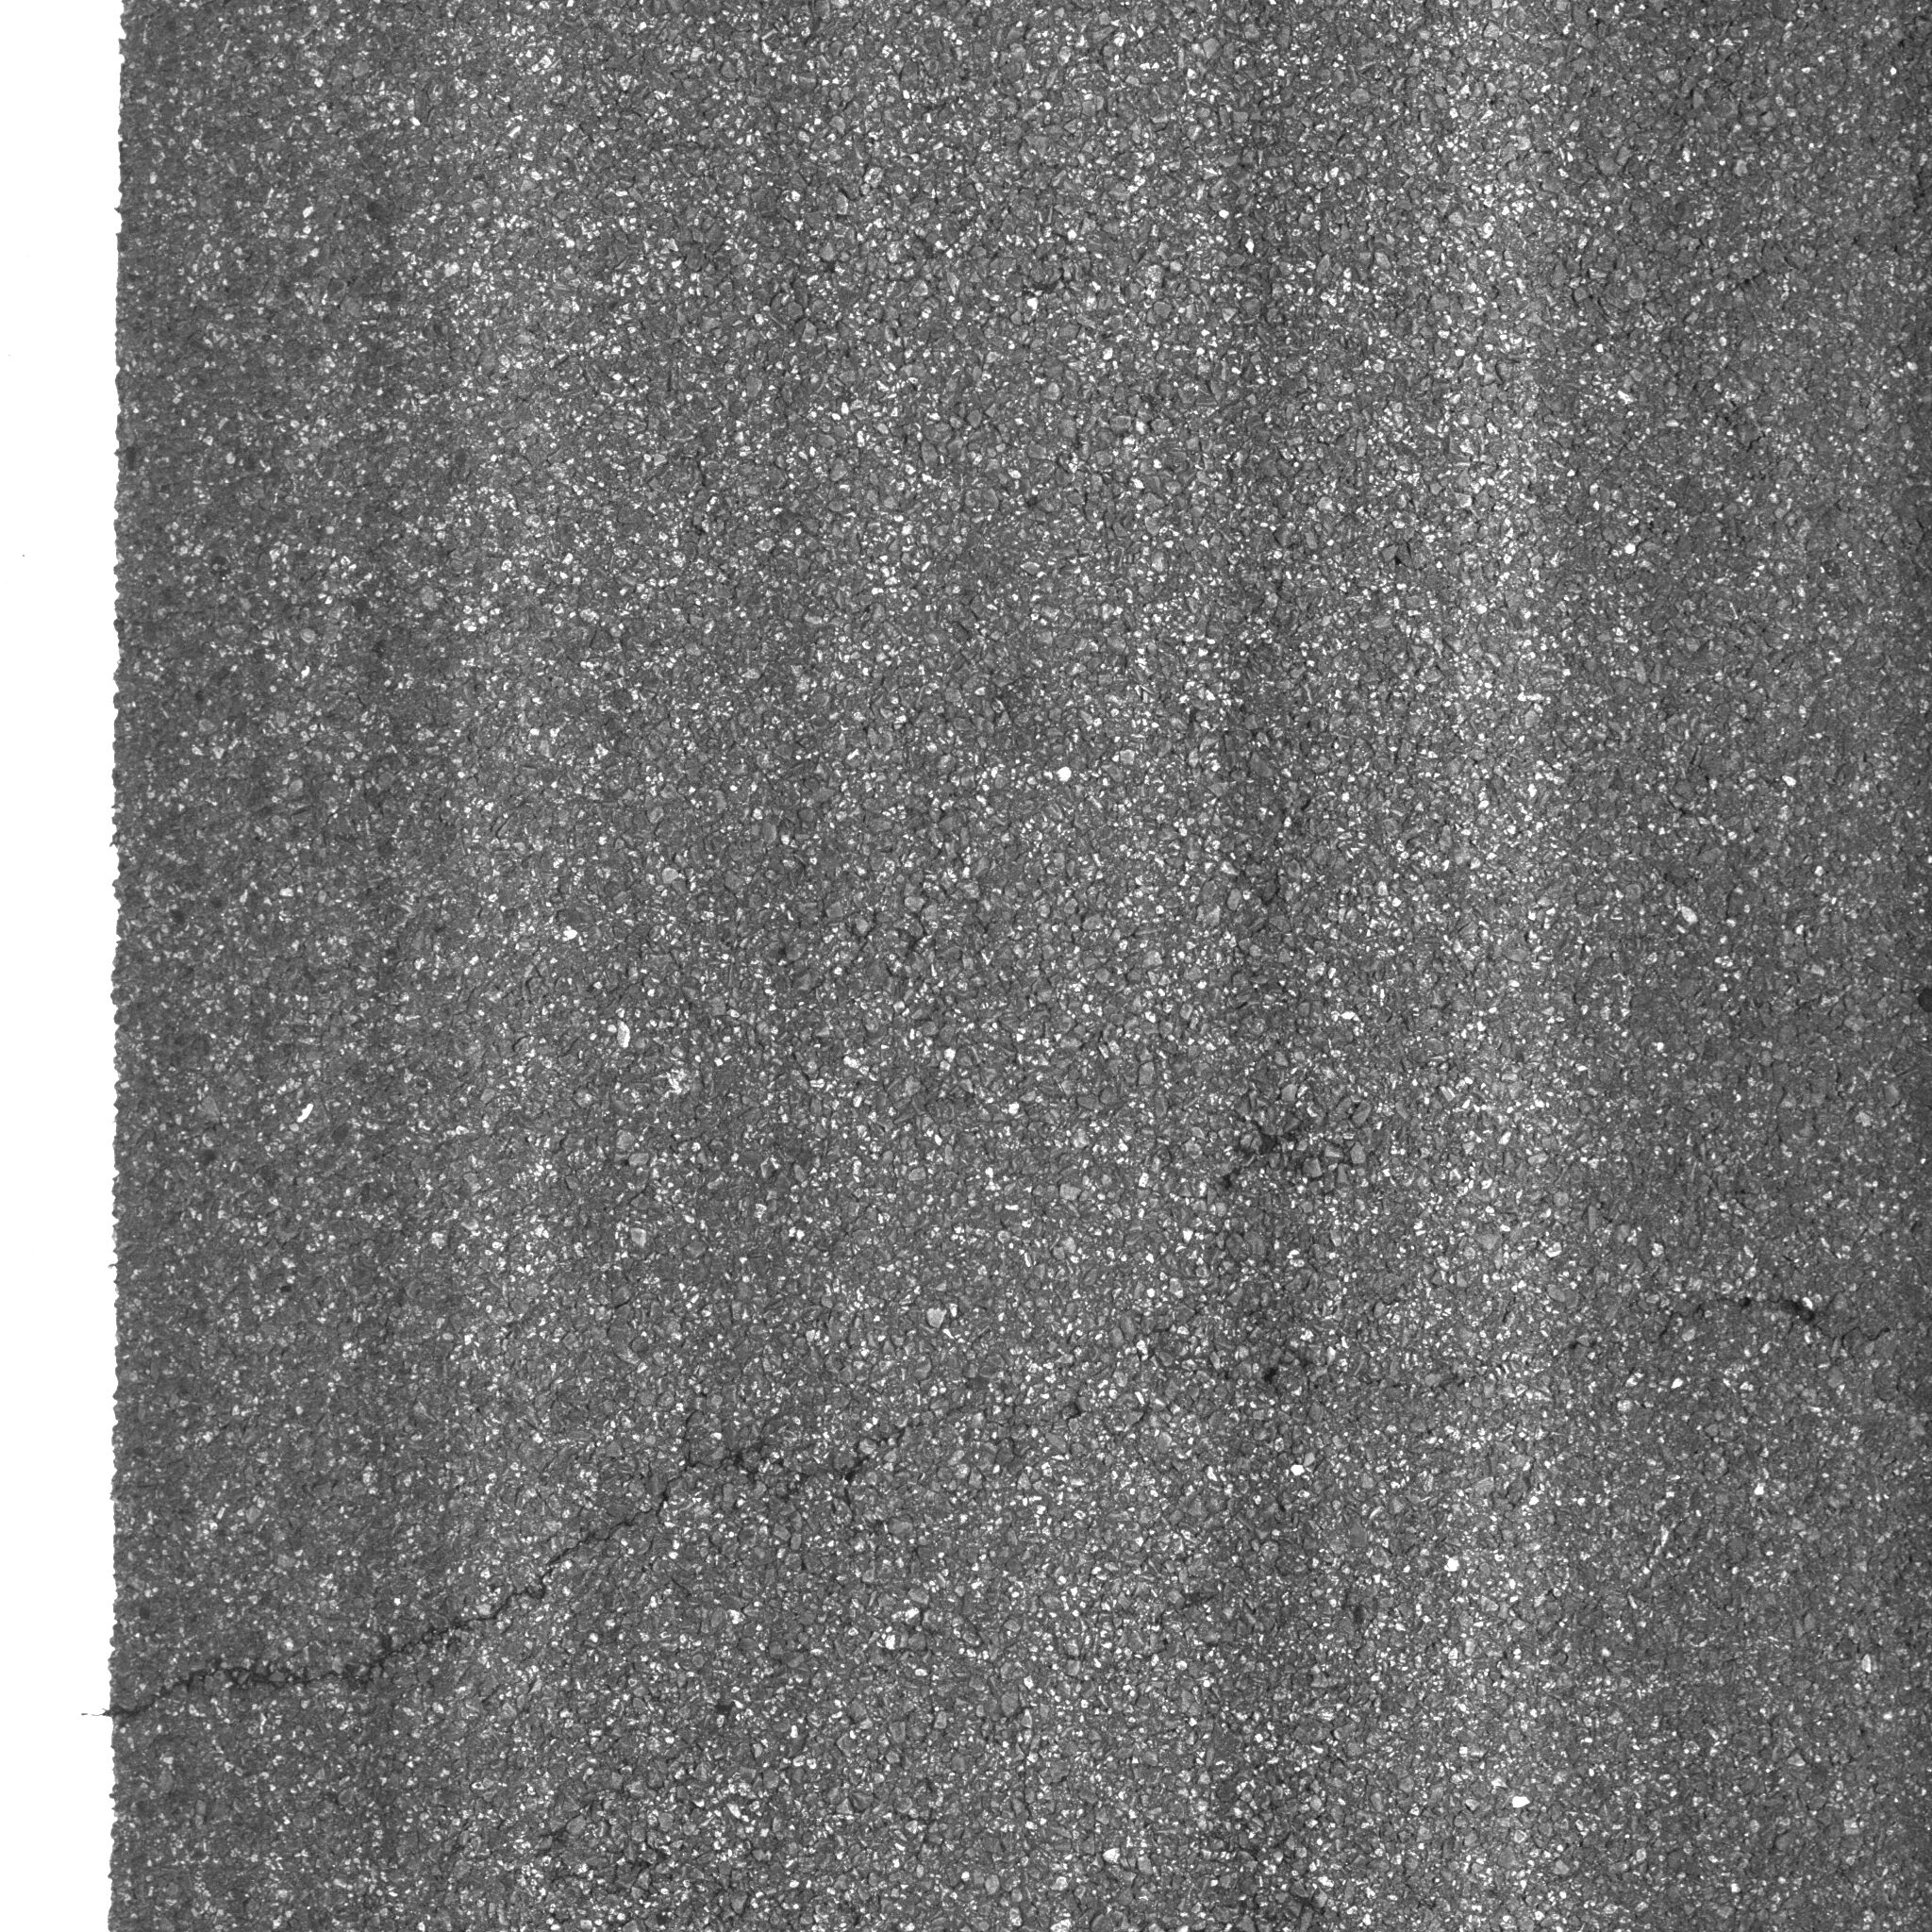transeverse: (111, 1270, 1840, 1744)
